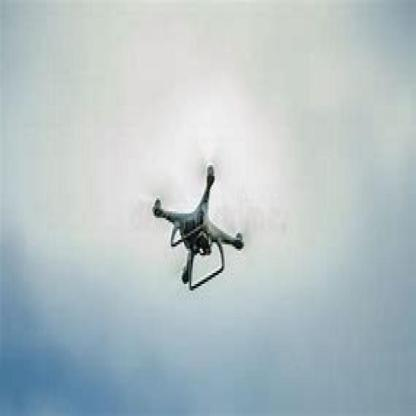drone: (142, 149, 256, 303)
